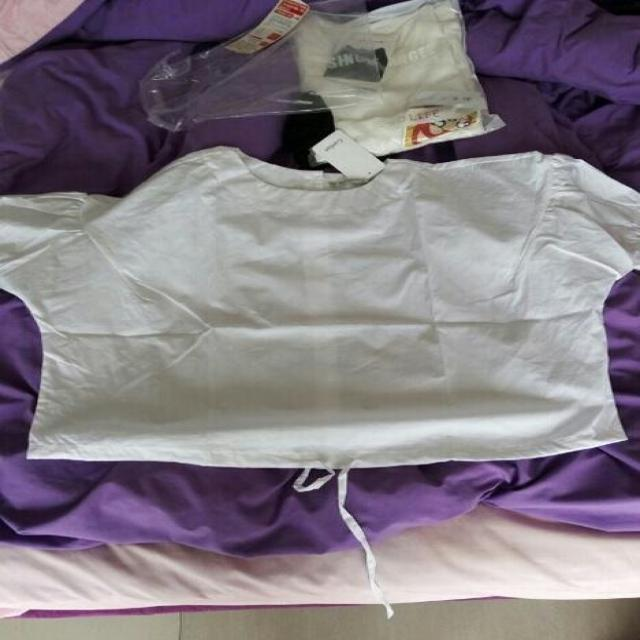short-sleeve-top: (5, 89, 640, 524)
